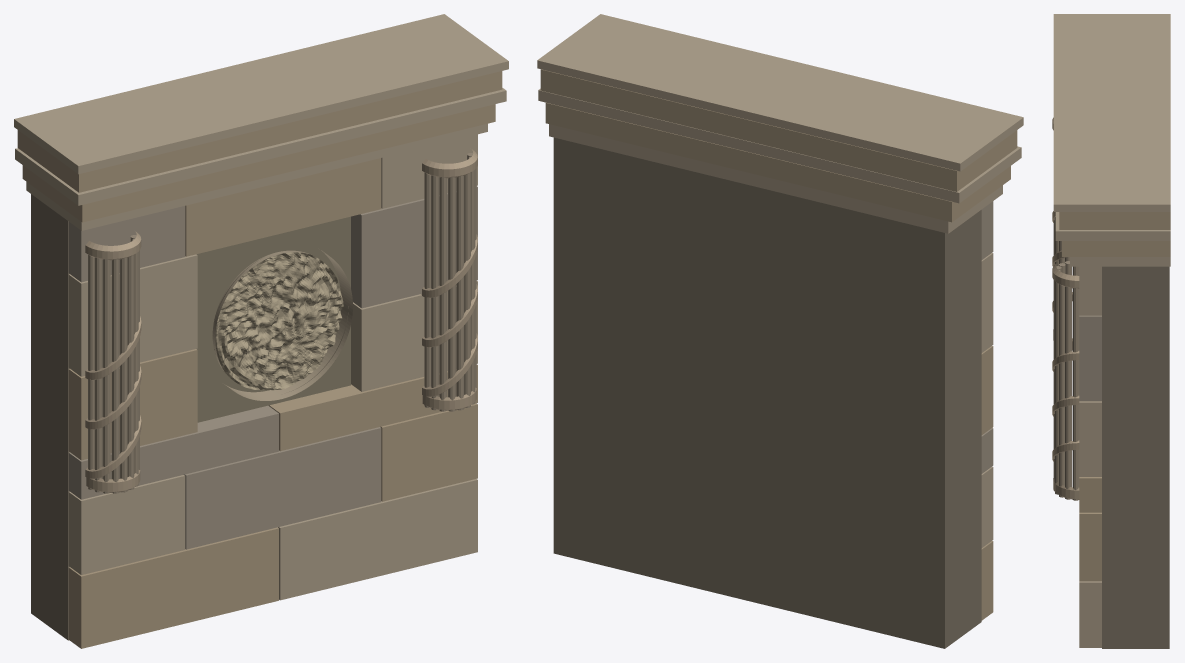
Rendered from jingan-customs-library-stone-roundel-raw.glb.
The picture shows the model from 3 angles, left to right: view 1: azimuth 30°, elevation 25°; view 2: azimuth 150°, elevation 25°; view 3: azimuth 270°, elevation 25°; orthographic projection. The views are drawn at different scales.
Parts seen in each view (by area): view 1: 江海图书馆海关楼门侧石徽与斜带束柱; view 2: 江海图书馆海关楼门侧石徽与斜带束柱; view 3: 江海图书馆海关楼门侧石徽与斜带束柱.
Boxes of the visible parts, left/top/right/bottom form: 江海图书馆海关楼门侧石徽与斜带束柱: left=14, top=14, right=508, bottom=648; 江海图书馆海关楼门侧石徽与斜带束柱: left=537, top=14, right=1023, bottom=648; 江海图书馆海关楼门侧石徽与斜带束柱: left=1052, top=14, right=1170, bottom=648.
Bounding box in the file's own units: 1.56 × 1.72 × 0.409.
